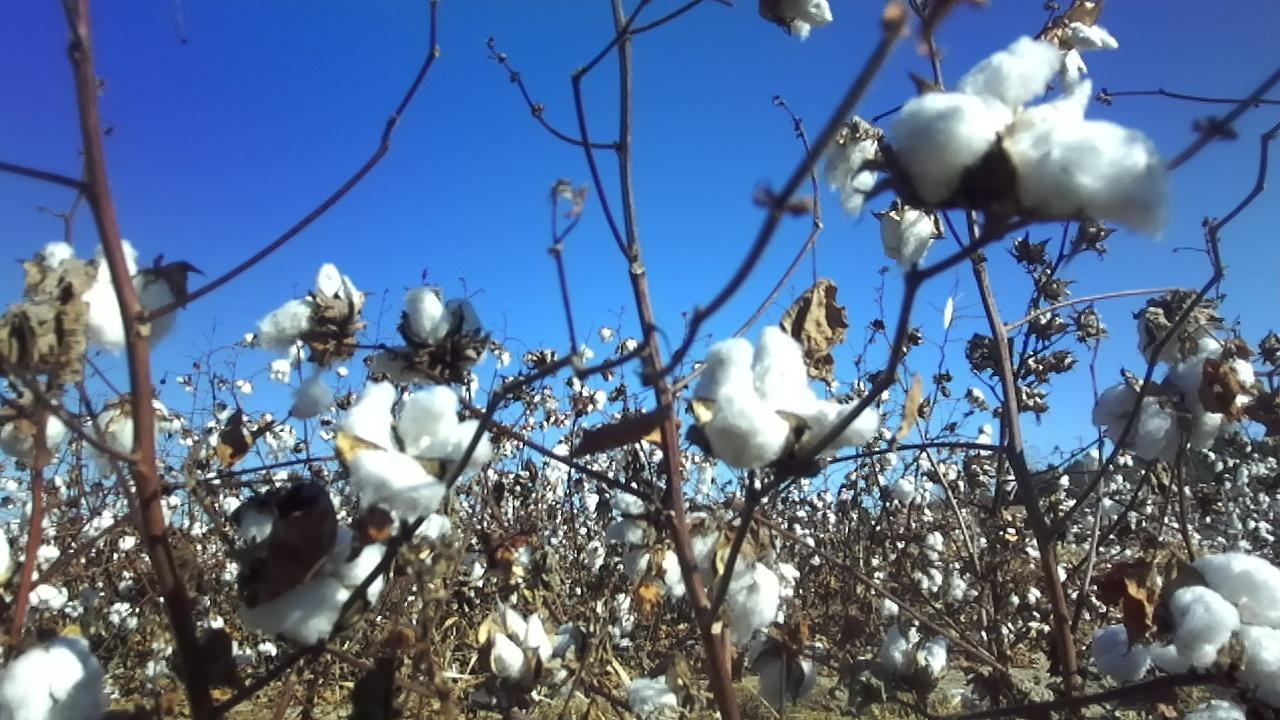cotton_ready: (882, 37, 1169, 230), (696, 327, 879, 469), (242, 498, 385, 644), (337, 383, 492, 517), (339, 381, 493, 510), (1169, 550, 1280, 708), (39, 243, 179, 354), (256, 264, 369, 367), (605, 510, 725, 598), (368, 290, 479, 385), (1168, 335, 1255, 451), (0, 640, 104, 720), (85, 397, 179, 481), (1090, 382, 1182, 461), (710, 562, 784, 646), (824, 117, 880, 225), (1092, 625, 1190, 684), (756, 629, 824, 703), (491, 610, 554, 687), (878, 623, 949, 682), (880, 203, 939, 272), (785, 1, 832, 37)
